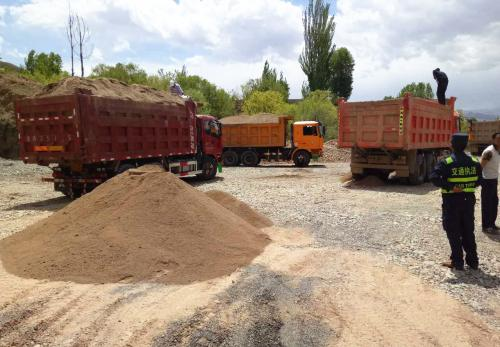chaozhai: (9, 67, 223, 186)
